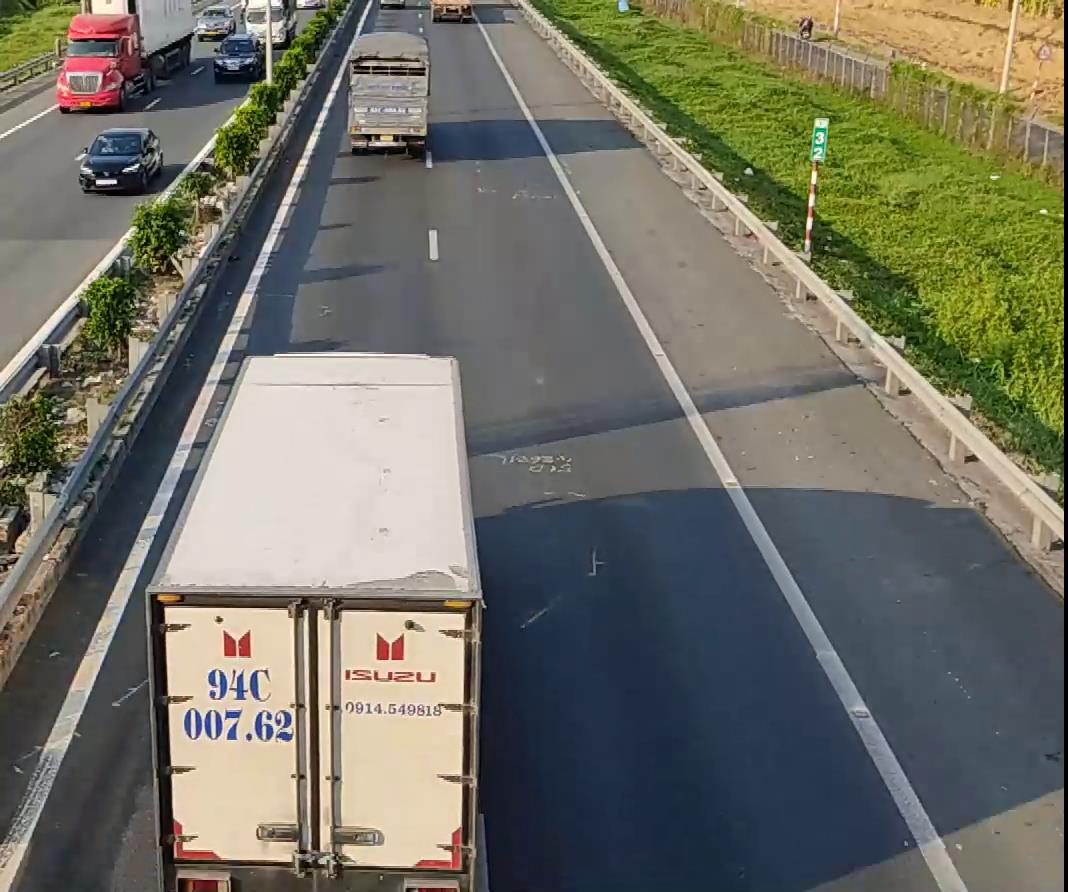car: (76, 126, 163, 193)
container: (51, 0, 196, 111)
truck: (141, 350, 479, 891), (343, 20, 432, 155)
